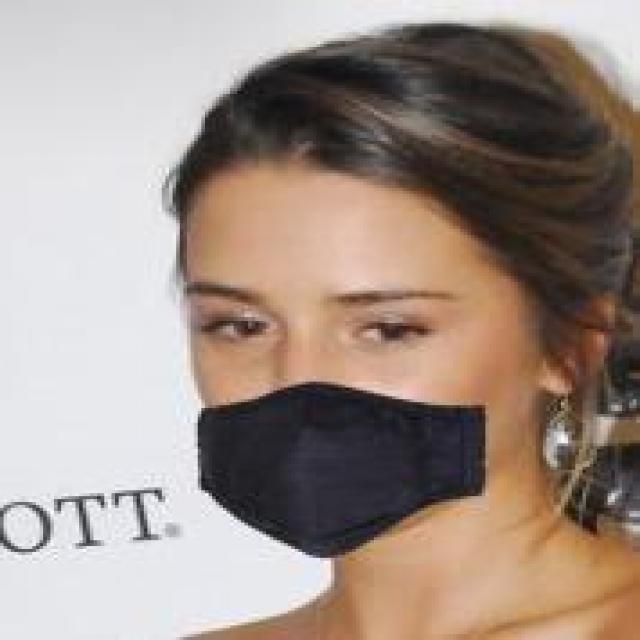mask: (111, 30, 640, 572)
